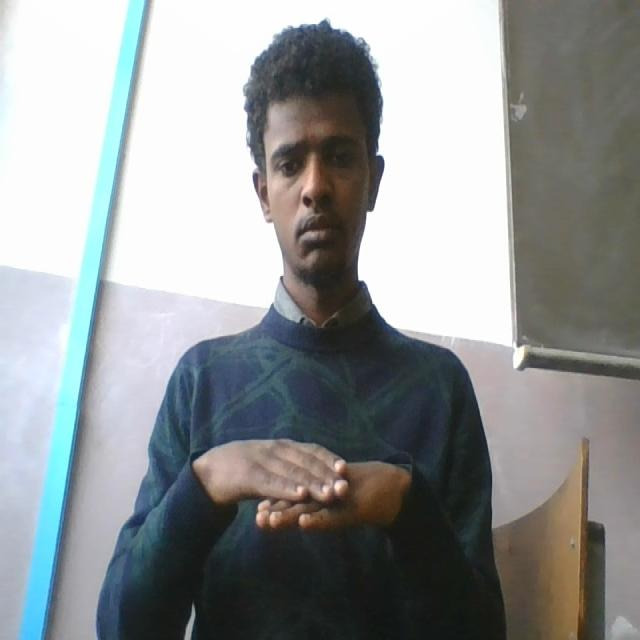lay: (206, 431, 393, 537)
